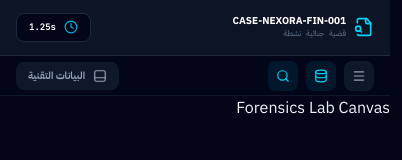
Scenario: Phase 4 — Rendered Visual QA, Responsive Viewports & RTL Consistency › verifies Forensics Case Workspace rendered behavior, drawer mutual exclusion, and technical drawer in Arabic RTL
This screenshot has width=402, height=160.
Toggle Evidence Drawer
Click the button with test id "toggle-evidence-btn".
click(321, 76)  # box [306,60,336,90]
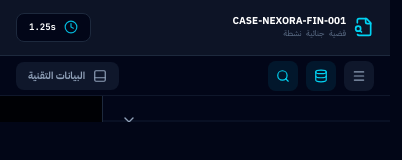
Check: the element with test id "mobile-evidence-drawer" is shown, box [0,96,390,122]
Click the button with test id "toggle-inspector-btn".
click(283, 76)  # box [268,60,298,90]
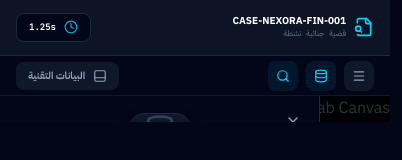
Check: the element with test id "mobile-inspector-drawer" is shown, box [0,96,390,122]
Check: the element with test id "mobile-evidence-drawer" is gone
Toggle Technical Drawer
Click the button with test id "toggle-tech-btn".
click(68, 76)  # box [16,62,119,90]
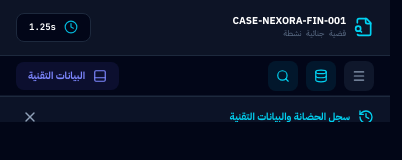
Check: the element with test id "technical-drawer" is shown, box [0,96,390,122]
Escape closes open drawers
Press Escape
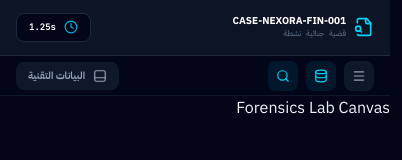
Check: the element with test id "technical-drawer" is gone
